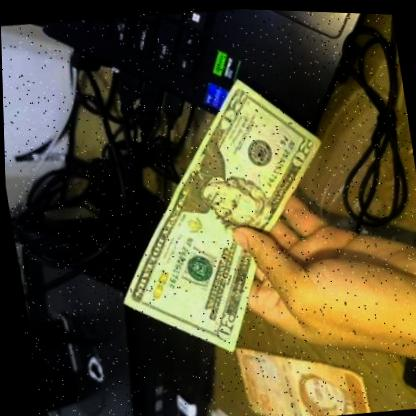twenty-front: (83, 55, 357, 368)
